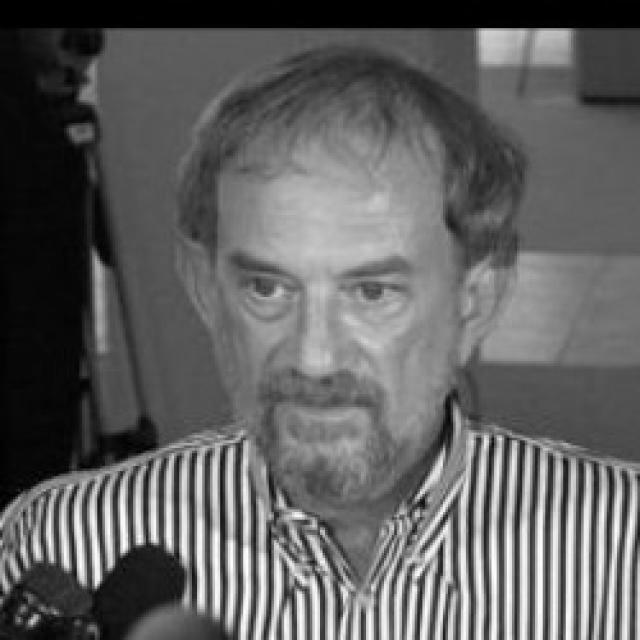real: (208, 80, 472, 504), (224, 263, 442, 323)
